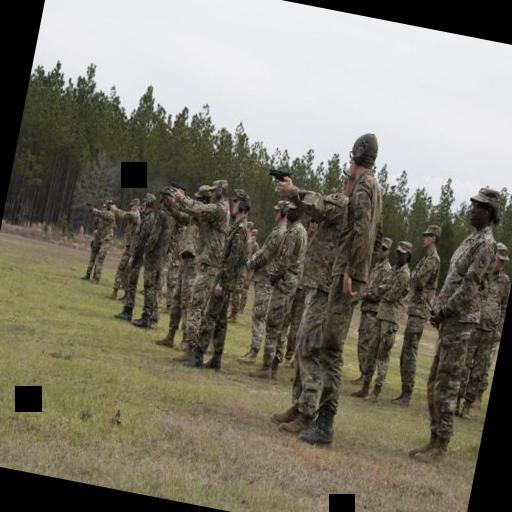Handgun: (260, 160, 293, 187), (169, 176, 188, 194), (156, 186, 172, 200)
